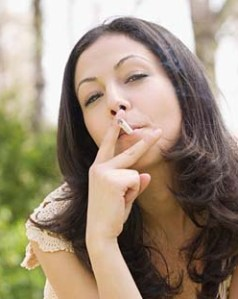cigarette: (117, 119, 132, 134)
